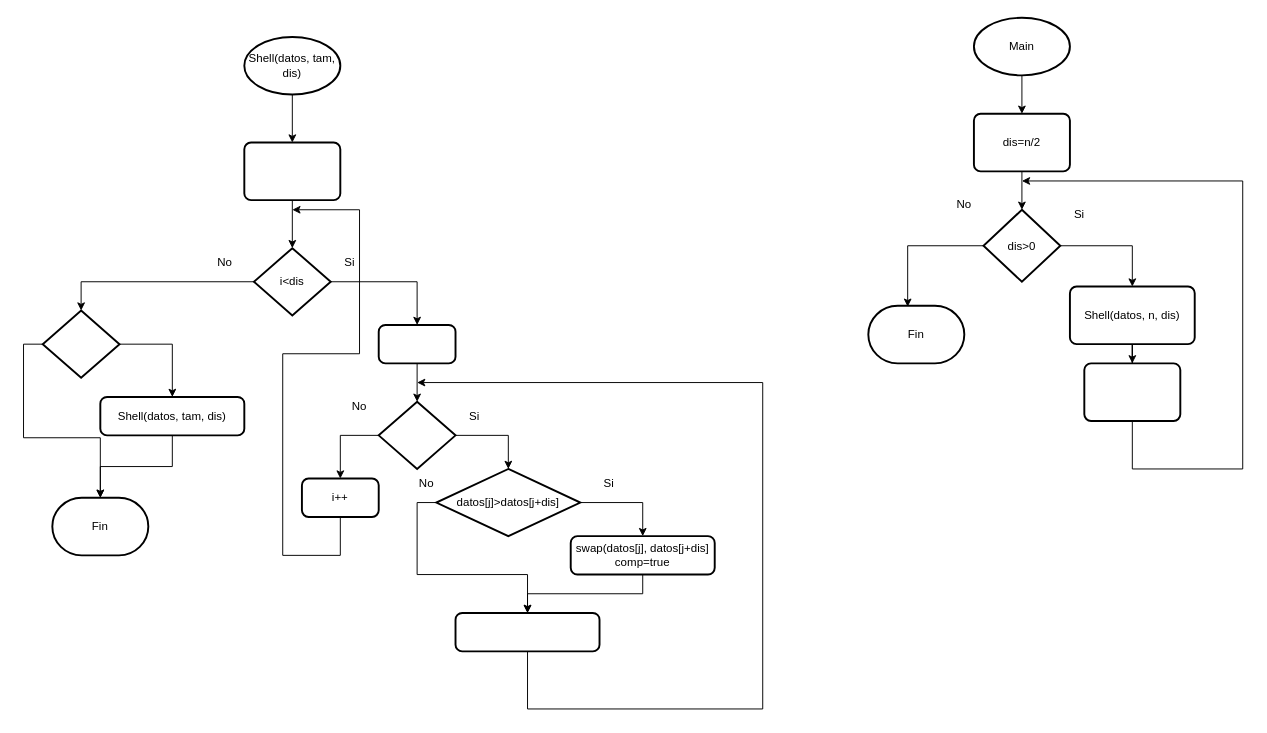
This 1267x733 diagram has some shape labels left out. The centre of each missing label's shape, as x and y in pixels:
comp: [80,343]
comp=false i=0: [292,171]
dis/=2: [1132,391]
j+=dis: [527,632]
j+dis<tam: [416,434]
j=i: [416,344]
